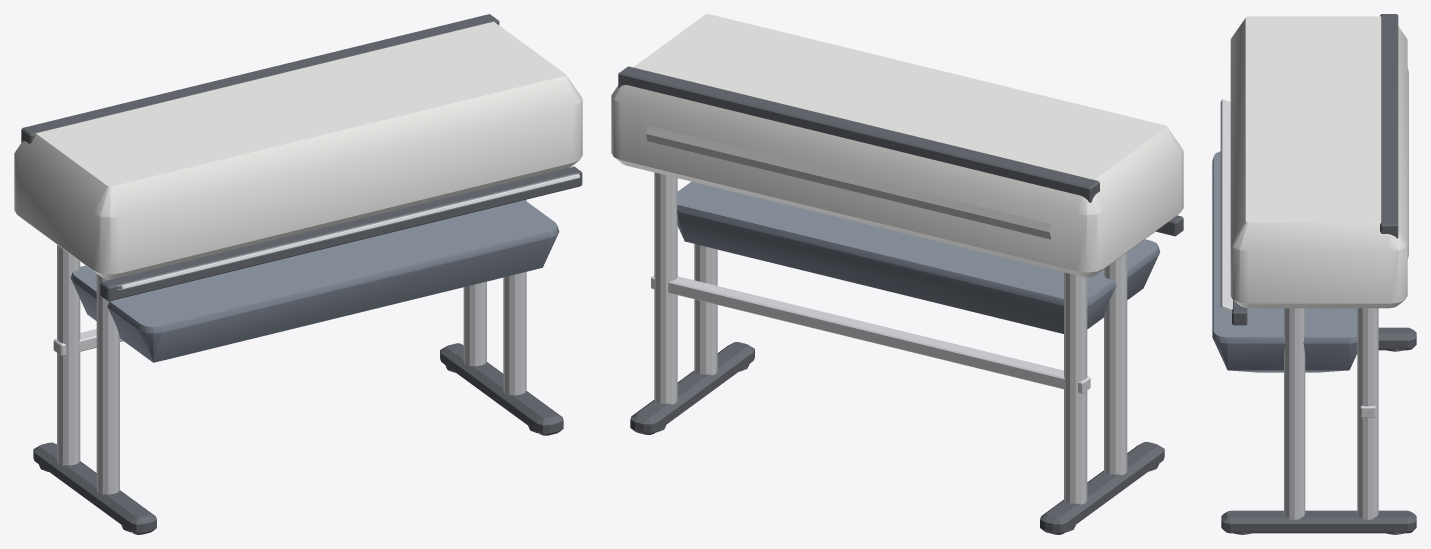
File: office-lobby-and-facilities-large-format-printer-abcb3755__26288.glb
The picture shows the model from 3 angles, left to right: view 1: azimuth 30°, elevation 25°; view 2: azimuth 150°, elevation 25°; view 3: azimuth 270°, elevation 25°; orthographic projection. The views are drawn at different scales.
Visible parts, largest first — view 1: large-format-printer; view 2: large-format-printer; view 3: large-format-printer.
Part boxes in pixels (x1=…): large-format-printer: x1=14, y1=14, x2=582, y2=534; large-format-printer: x1=611, y1=14, x2=1183, y2=534; large-format-printer: x1=1212, y1=14, x2=1416, y2=534.
Bounding box in the file's own units: 1.7 × 1.15 × 0.67.
